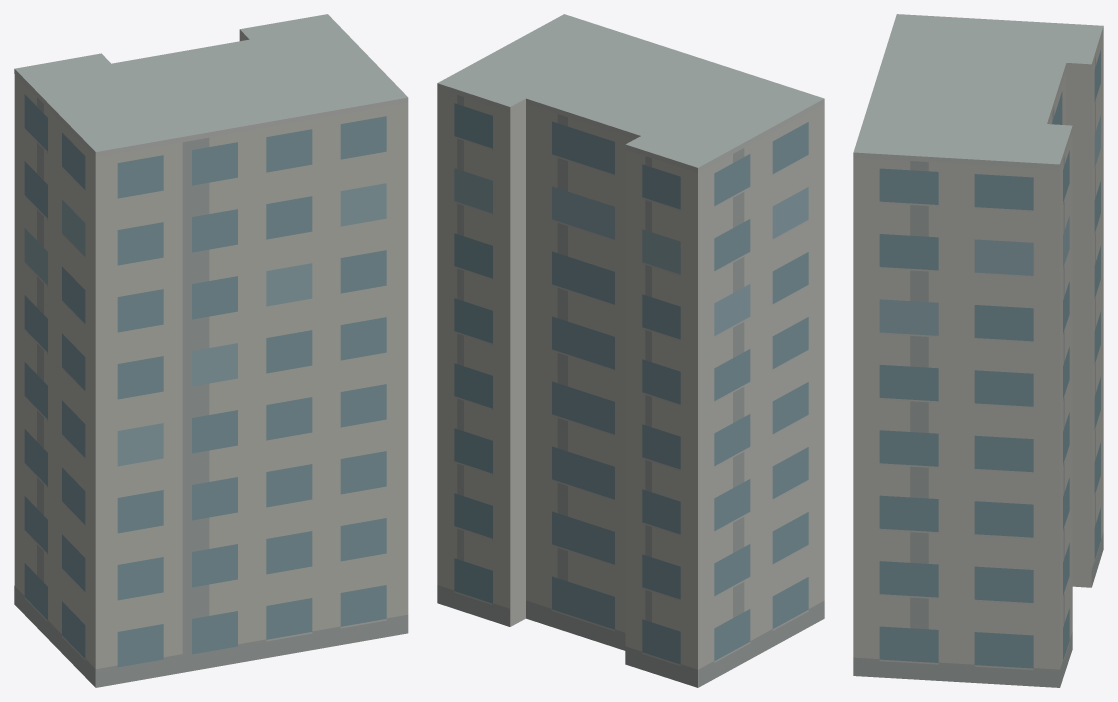
File: survey-upis-32794905.glb
The picture shows the model from 3 angles, left to right: view 1: azimuth 30°, elevation 25°; view 2: azimuth 150°, elevation 25°; view 3: azimuth 270°, elevation 25°; orthographic projection. The views are drawn at different scales.
Visible parts, largest first — view 1: survey-upis-32794905.tmp; view 2: survey-upis-32794905.tmp; view 3: survey-upis-32794905.tmp.
Part boxes in pixels (x1,y1,x2,y2): survey-upis-32794905.tmp: (14,14,408,687); survey-upis-32794905.tmp: (437,14,824,687); survey-upis-32794905.tmp: (853,14,1103,687).
Bounding box in the file's own units: 15.11 × 24.5 × 10.62.
